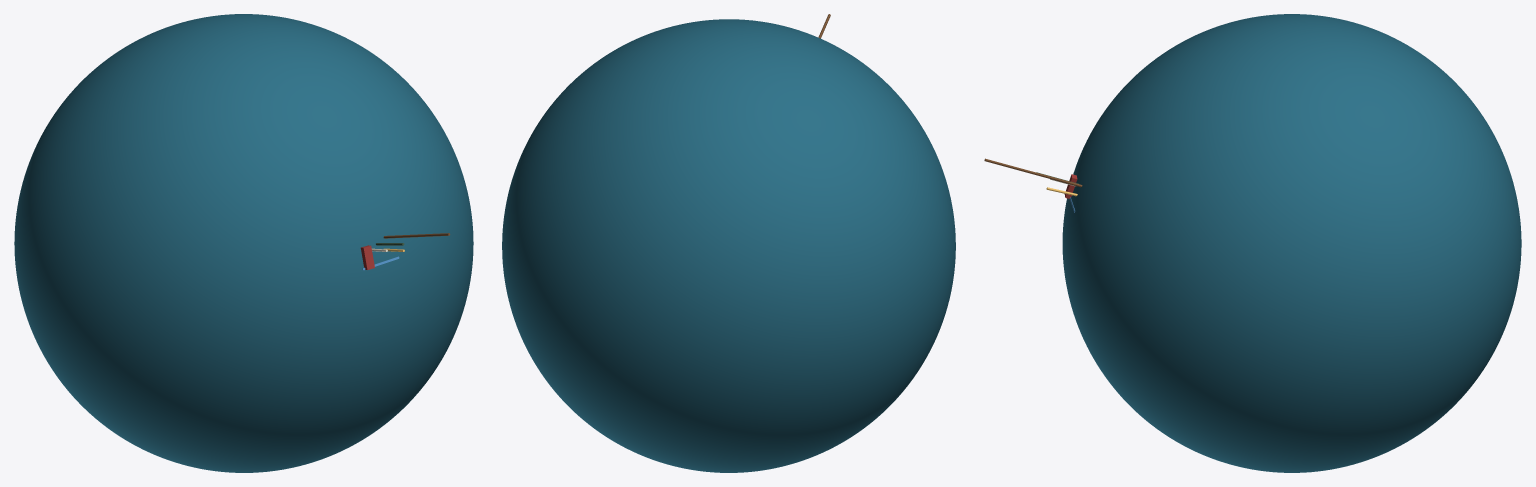
The model's file is wake-base-world.glb.
The picture shows the model from 3 angles, left to right: view 1: azimuth 30°, elevation 25°; view 2: azimuth 150°, elevation 25°; view 3: azimuth 270°, elevation 25°; orthographic projection.
Visible parts, largest first — view 1: Water; view 2: Water; view 3: Water.
Part boxes in pixels (x1,y1,x2,y2): Water: (14,14,473,472); Water: (502,19,955,472); Water: (1062,14,1521,472).
Size of the model in its own units: 10 by 10 by 11.7.
